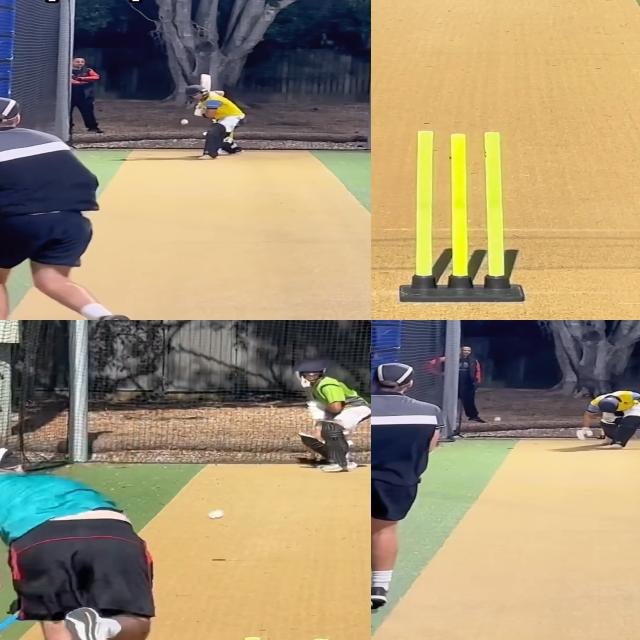Cricket ball: (206, 508, 229, 522), (180, 119, 190, 125), (494, 417, 502, 422)
Stumps: (401, 129, 528, 304)
